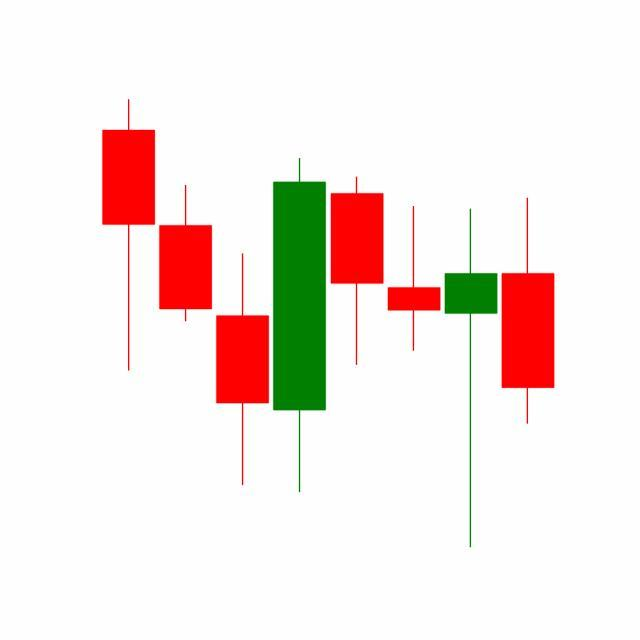Hikkake Pattern: (214, 154, 501, 549)
